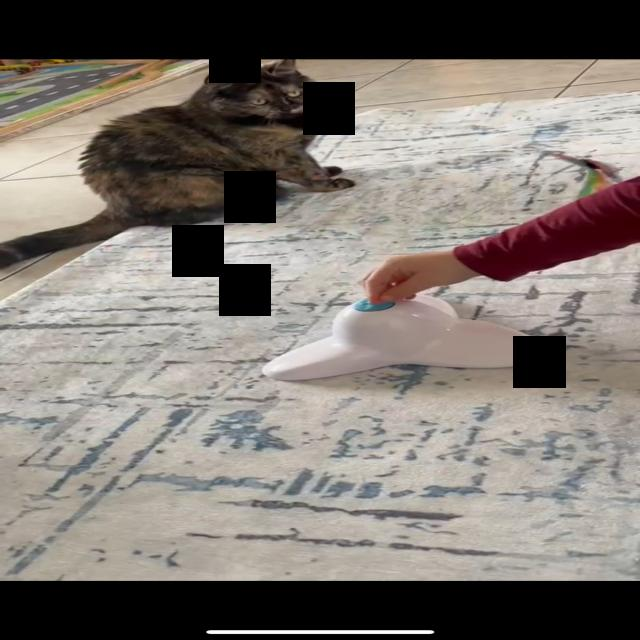authorized: (1, 58, 356, 270)
